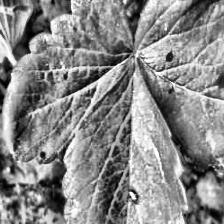Leaf Spot: (2, 0, 135, 165), (61, 55, 188, 224), (135, 0, 224, 173), (193, 168, 224, 208)
